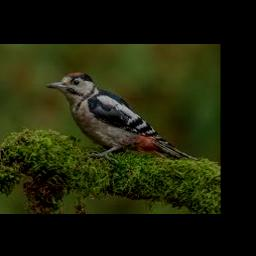Woodpecker: (46, 72, 197, 161)
